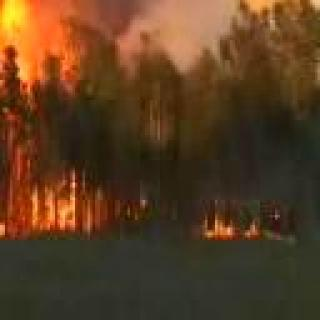fire: (0, 114, 125, 237), (0, 0, 66, 77), (192, 199, 272, 241)
